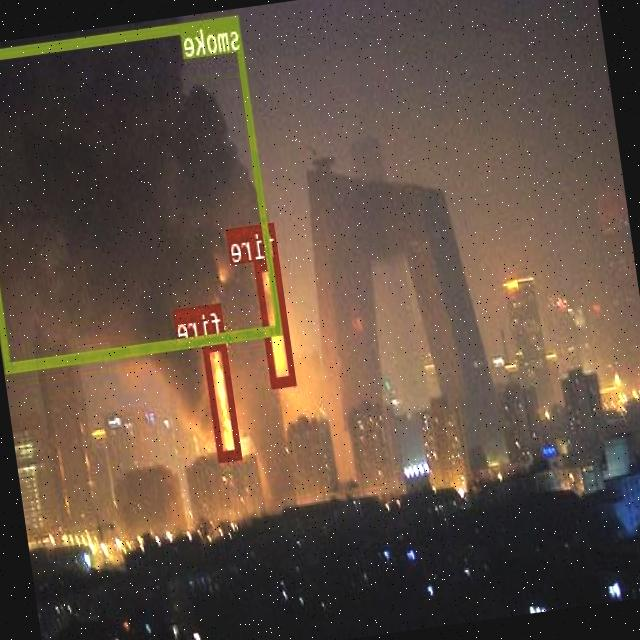fire: (256, 256, 296, 386), (203, 338, 243, 461)
smoke: (0, 13, 283, 372)
